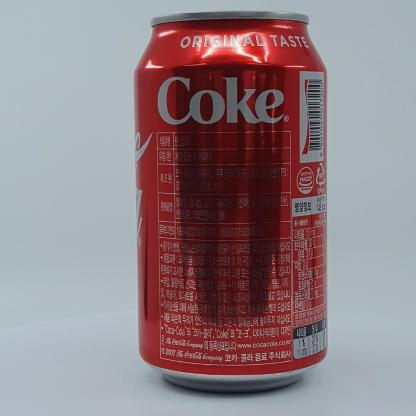---------350ML: (134, 10, 328, 394)
